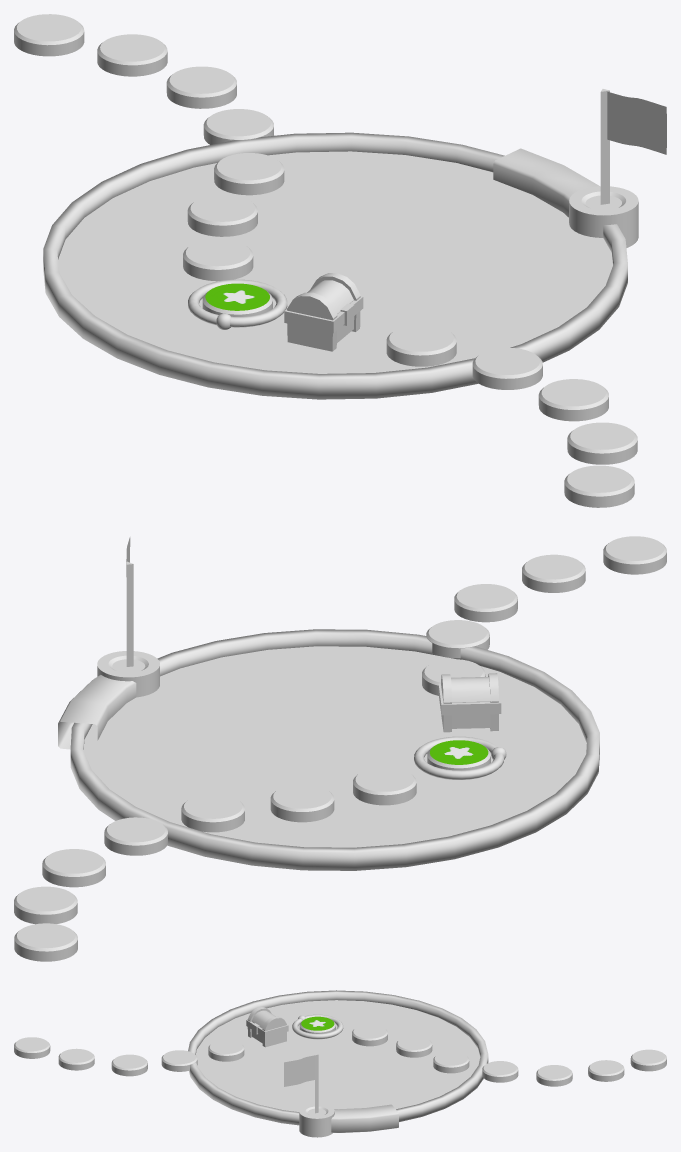
Rendered from 20250111_TableAdjustments.fbx.
The picture shows the model from 3 angles, top to bottom: view 1: azimuth 30°, elevation 25°; view 2: azimuth 150°, elevation 25°; view 3: azimuth 270°, elevation 25°; orthographic projection. The views are drawn at different scales.
Visible parts, largest first — view 1: Tabletop, Frame, Frame_Extra, Roadmap_Chest, Flag, Roadmap_Complete.005, Roadmap_Locked.003, Roadmap_Locked, Roadmap_Locked.004, Roadmap_Complete, Roadmap_Complete.004, Roadmap_Locked.002 (+8 smaller); view 2: Tabletop, Frame, Frame_Extra, Roadmap_Chest, Roadmap_Complete, Roadmap_Complete.004, Roadmap_Locked.004, Roadmap_Complete.003, Roadmap_Locked.003, Roadmap_Complete.001, Roadmap_Locked.002, Roadmap_Complete.006 (+7 smaller); view 3: Tabletop, Frame, Frame_Extra, Roadmap_Chest, Flag, Roadmap_Complete.002, Roadmap_Locked, Roadmap_Complete.006, Roadmap_Complete, Roadmap_Complete.004, Roadmap_Locked.002, Roadmap_Locked.003 (+7 smaller).
Part boxes in pixels (<box>): Tabletop: <box>58,151,612,373</box>; Frame: <box>43,132,627,399</box>; Frame_Extra: <box>493,148,638,247</box>; Roadmap_Chest: <box>284,273,363,351</box>; Flag: <box>607,92,666,154</box>; Roadmap_Complete.005: <box>97,34,167,76</box>; Roadmap_Locked.003: <box>567,422,637,464</box>; Roadmap_Locked: <box>386,324,456,366</box>; Roadmap_Locked.004: <box>564,465,634,507</box>; Roadmap_Complete: <box>187,194,257,236</box>; Roadmap_Complete.004: <box>14,14,84,56</box>; Roadmap_Locked.002: <box>538,379,608,421</box>; Tabletop: <box>83,646,586,847</box>; Frame: <box>70,629,599,870</box>; Frame_Extra: <box>58,651,159,749</box>; Roadmap_Chest: <box>438,673,501,732</box>; Roadmap_Complete: <box>270,784,334,822</box>; Roadmap_Complete.004: <box>14,923,77,961</box>; Roadmap_Locked.004: <box>603,536,666,574</box>; Roadmap_Complete.003: <box>104,817,167,855</box>; Roadmap_Locked.003: <box>522,554,585,592</box>; Roadmap_Complete.001: <box>353,767,416,805</box>; Roadmap_Locked.002: <box>454,584,517,622</box>; Roadmap_Complete.006: <box>42,849,105,887</box>; Tabletop: <box>196,1000,480,1111</box>; Frame: <box>188,990,488,1125</box>; Frame_Extra: <box>299,1104,398,1137</box>; Roadmap_Chest: <box>246,1007,288,1047</box>; Flag: <box>284,1055,314,1086</box>; Roadmap_Complete.002: <box>433,1051,469,1073</box>; Roadmap_Locked: <box>208,1040,244,1061</box>; Roadmap_Complete.006: <box>536,1065,572,1086</box>; Roadmap_Complete: <box>396,1036,432,1057</box>; Roadmap_Complete.004: <box>630,1049,666,1071</box>; Roadmap_Locked.002: <box>111,1054,147,1076</box>; Roadmap_Locked.003: <box>58,1048,94,1070</box>.
Size of the model in its own units: 2.21 by 0.5817 by 4.56.
